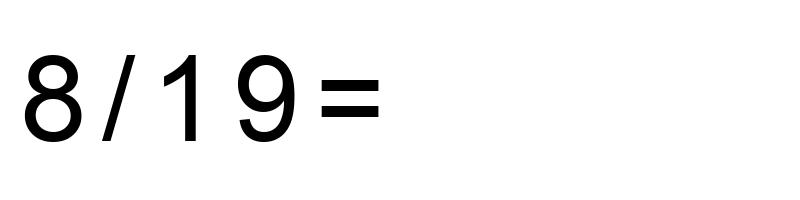/: (102, 32, 136, 167)
1: (151, 32, 218, 167)
8: (20, 32, 87, 167)
9: (233, 32, 300, 167)
=: (315, 32, 385, 167)
